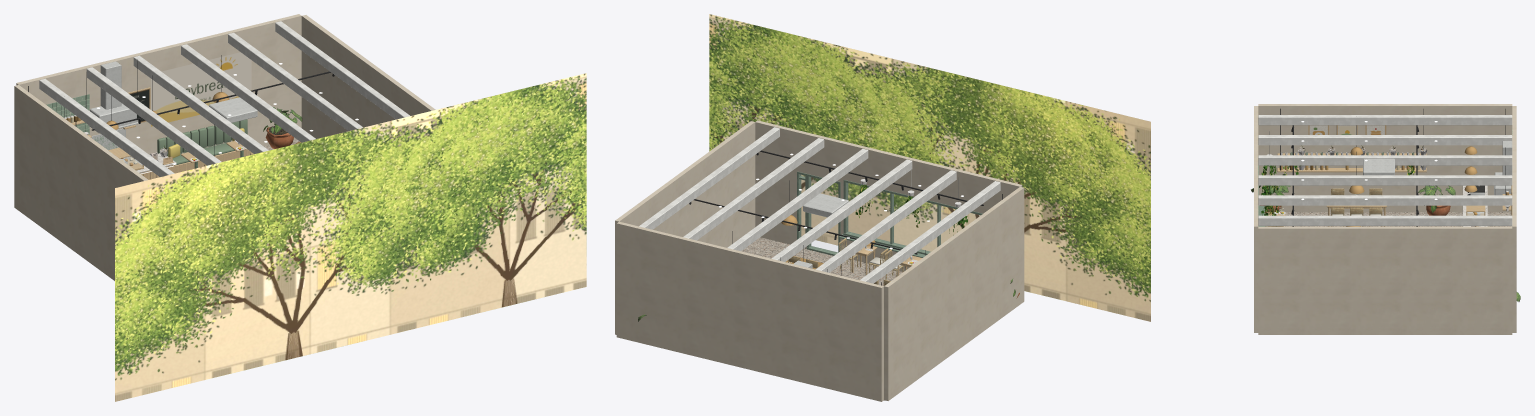
File: daybreak.glb
The picture shows the model from 3 angles, left to right: view 1: azimuth 30°, elevation 25°; view 2: azimuth 150°, elevation 25°; view 3: azimuth 270°, elevation 25°; orthographic projection. The views are drawn at different scales.
Visible parts, largest first — view 1: WALL_front_VIEW_dbk_window_view, WALL_left_dbk_wall, dbk_beam, WALL_back_dbk_wall, WALL_right_dbk_wall, WALL_back_dbk_print, dbk_steel, dbk_fab_sage, dbk_wood, S_ph_potted_plant_02_2, dbk_blackmetal; view 2: WALL_front_VIEW_dbk_window_view, WALL_back_dbk_wall, WALL_left_dbk_wall, dbk_beam, WALL_front_dbk_wall, WALL_right_dbk_wall, WALL_front_dbk_frame, dbk_floor, dbk_steel, dbk_blackmetal, dbk_oakcg; view 3: WALL_right_dbk_wall, dbk_beam, WALL_left_dbk_wall, dbk_steel, WALL_back_dbk_wall, WALL_front_dbk_wall, dbk_vcg, WALL_left_dbk_wood, dbk_floor, dbk_oakcg, WALL_left_dbk_print, dbk_wood (+2 smaller).
Part boxes in pixels (x1,y1,x2,y2): WALL_front_VIEW_dbk_window_view: [115, 73, 586, 401]; WALL_left_dbk_wall: [14, 85, 148, 280]; dbk_beam: [39, 21, 409, 176]; WALL_back_dbk_wall: [16, 14, 301, 159]; WALL_right_dbk_wall: [301, 15, 435, 138]; WALL_back_dbk_print: [129, 52, 251, 126]; dbk_steel: [88, 61, 257, 163]; dbk_fab_sage: [157, 119, 247, 165]; dbk_wood: [71, 120, 251, 179]; S_ph_potted_plant_02_2: [263, 107, 302, 148]; dbk_blackmetal: [28, 59, 334, 130]; WALL_front_VIEW_dbk_window_view: [709, 14, 1150, 321]; WALL_back_dbk_wall: [616, 221, 883, 401]; WALL_left_dbk_wall: [884, 187, 1024, 400]; dbk_beam: [639, 127, 1000, 283]; WALL_front_dbk_wall: [755, 120, 1022, 271]; WALL_right_dbk_wall: [615, 121, 755, 334]; WALL_front_dbk_frame: [797, 171, 982, 257]; dbk_floor: [741, 237, 902, 400]; dbk_steel: [794, 166, 958, 268]; dbk_blackmetal: [689, 150, 983, 285]; dbk_oakcg: [788, 238, 903, 285]; WALL_right_dbk_wall: [1258, 226, 1512, 334]; dbk_beam: [1258, 115, 1512, 225]; WALL_left_dbk_wall: [1258, 104, 1512, 212]; dbk_steel: [1269, 131, 1512, 226]; WALL_back_dbk_wall: [1512, 106, 1516, 332]; WALL_front_dbk_wall: [1254, 106, 1258, 332]; dbk_vcg: [1273, 146, 1508, 226]; WALL_left_dbk_wood: [1277, 125, 1426, 172]; dbk_floor: [1265, 212, 1511, 226]; dbk_oakcg: [1269, 188, 1382, 226]; WALL_left_dbk_print: [1309, 125, 1385, 134]; dbk_wood: [1266, 194, 1511, 226].
Size of the model in its own units: 15 by 6.5 by 10.77.
32 materials, 27 textured.
